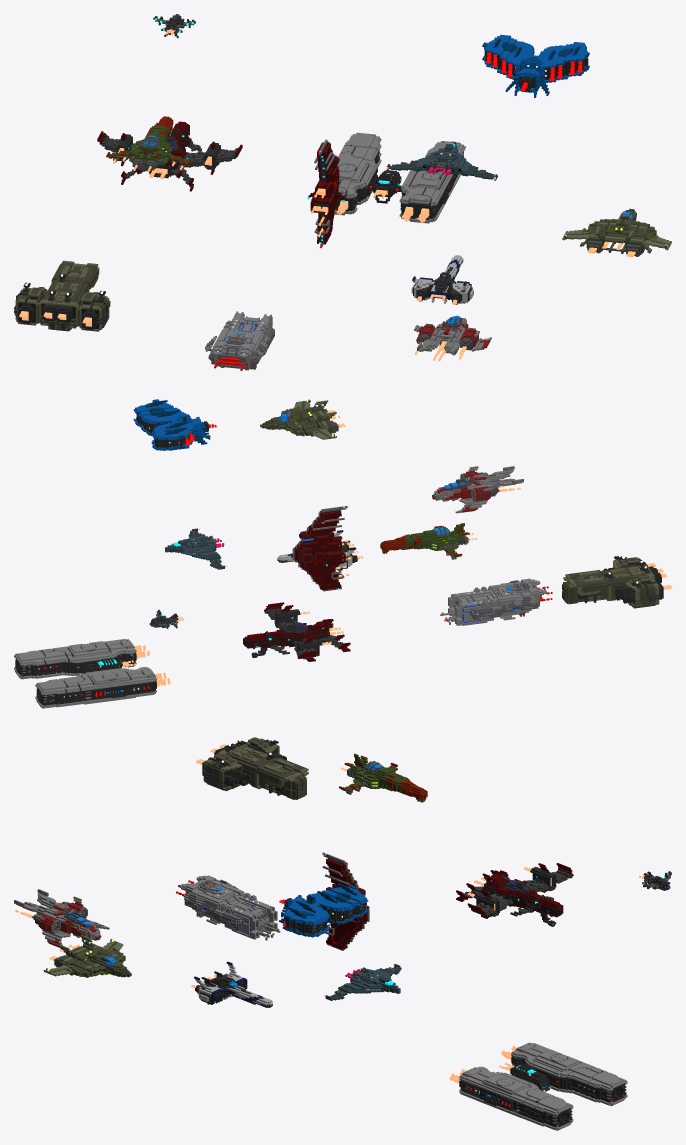
The model's file is spaceship.glb.
3 renders of one model, top to bottom at view 1: azimuth 30°, elevation 25°; view 2: azimuth 150°, elevation 25°; view 3: azimuth 270°, elevation 25°, orthographic. The views are drawn at different scales.
Parts seen in each view (by area): view 1: DualStriker_primitive0, StarMarineTrooper_primitive0, UltravioletIntruder_primitive0, Warship_primitive0, CamoStellarJet_primitive0, RedFighter_primitive0, MeteorSlicer_primitive0, Transtellar_primitive0, InfraredFurtive_primitive0, InterstellarRunner_primitive0, GalactixRacer_primitive0, RedFighter_primitive4 (+1 smaller); view 2: DualStriker_primitive0, StarMarineTrooper_primitive0, Warship_primitive0, MeteorSlicer_primitive0, UltravioletIntruder_primitive0, Transtellar_primitive0, RedFighter_primitive0, CamoStellarJet_primitive0, RedFighter_primitive4, GalactixRacer_primitive0, InfraredFurtive_primitive0, GalactixRacer_primitive4 (+1 smaller); view 3: DualStriker_primitive0, StarMarineTrooper_primitive0, Warship_primitive0, UltravioletIntruder_primitive0, RedFighter_primitive0, Transtellar_primitive0, CamoStellarJet_primitive0, MeteorSlicer_primitive0, InterstellarRunner_primitive0, RedFighter_primitive4, InfraredFurtive_primitive0, GalactixRacer_primitive0 (+1 smaller).
Boxes of the visible parts, x1,y1,x2,y2 form: DualStriker_primitive0: [334, 132, 465, 223]; StarMarineTrooper_primitive0: [14, 260, 110, 331]; UltravioletIntruder_primitive0: [482, 34, 589, 96]; Warship_primitive0: [205, 311, 274, 370]; CamoStellarJet_primitive0: [562, 208, 671, 256]; RedFighter_primitive0: [101, 123, 238, 184]; MeteorSlicer_primitive0: [308, 139, 345, 247]; Transtellar_primitive0: [414, 316, 491, 355]; InfraredFurtive_primitive0: [386, 141, 497, 180]; InterstellarRunner_primitive0: [411, 255, 473, 304]; GalactixRacer_primitive0: [108, 125, 188, 170]; RedFighter_primitive4: [97, 121, 242, 191]; DualStriker_primitive0: [14, 639, 156, 708]; StarMarineTrooper_primitive0: [562, 556, 663, 608]; Warship_primitive0: [440, 578, 552, 625]; MeteorSlicer_primitive0: [292, 506, 346, 591]; UltravioletIntruder_primitive0: [133, 399, 210, 450]; Transtellar_primitive0: [432, 466, 523, 513]; RedFighter_primitive0: [243, 607, 342, 659]; CamoStellarJet_primitive0: [260, 399, 338, 439]; RedFighter_primitive4: [243, 602, 350, 661]; GalactixRacer_primitive0: [382, 523, 468, 559]; InfraredFurtive_primitive0: [165, 528, 224, 569]; GalactixRacer_primitive4: [380, 524, 469, 556]; DualStriker_primitive0: [459, 1042, 627, 1130]; StarMarineTrooper_primitive0: [202, 737, 308, 799]; Warship_primitive0: [176, 875, 280, 940]; UltravioletIntruder_primitive0: [280, 884, 368, 937]; RedFighter_primitive0: [463, 866, 572, 926]; Transtellar_primitive0: [14, 889, 109, 947]; CamoStellarJet_primitive0: [43, 935, 131, 977]; MeteorSlicer_primitive0: [322, 853, 369, 950]; InterstellarRunner_primitive0: [194, 961, 272, 1007]; RedFighter_primitive4: [456, 863, 573, 918]; InfraredFurtive_primitive0: [325, 964, 401, 1000]; GalactixRacer_primitive0: [341, 753, 426, 802].
Bounding box in the file's own units: 39.47 × 14 × 39.72.
25 materials, 12 textured.
